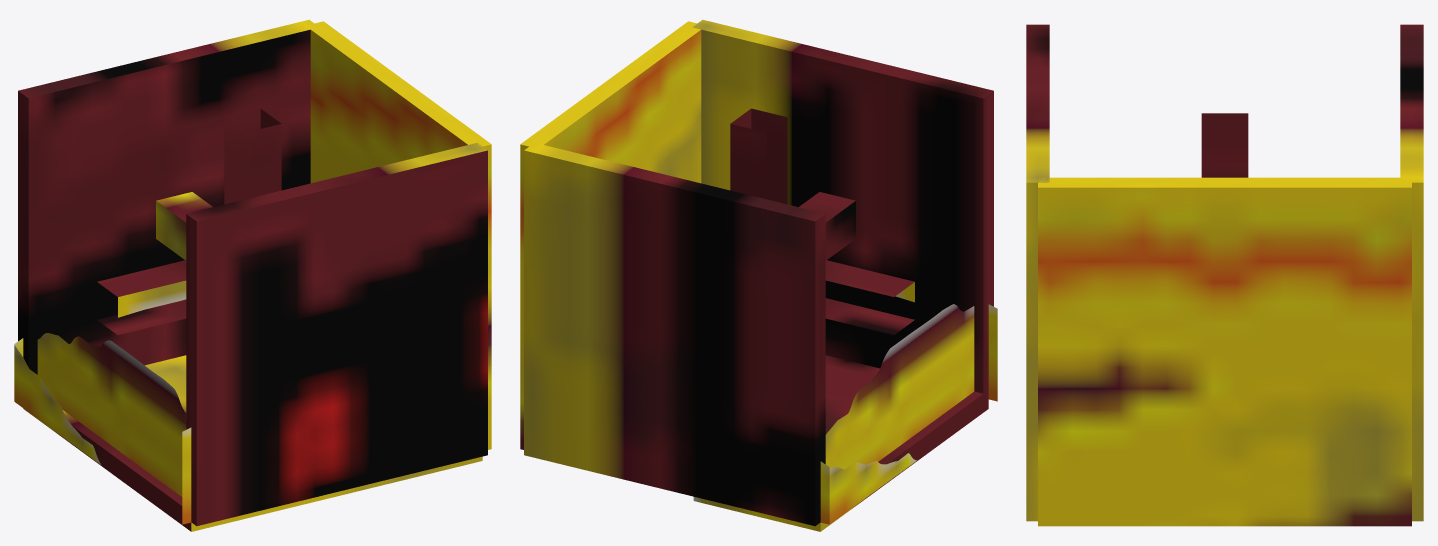
File: pandorasbox.obj
3 renders of one model, left to right at view 1: azimuth 30°, elevation 25°; view 2: azimuth 150°, elevation 25°; view 3: azimuth 270°, elevation 25°, orthographic. The views are drawn at different scales.
Visible parts, largest first — view 1: backside, frontside, rightside, leftside, buttonside, sticktb, sticklr, stickfb; view 2: frontside, backside, rightside, leftside, buttonside, sticktb, sticklr, stickfb; view 3: leftside, frontside, backside, sticktb.
Part boxes in pixels (box(x1,y1,x2,y2)): backside: box(186, 143, 487, 526); frontside: box(18, 19, 319, 374); rightside: box(14, 333, 191, 524); leftside: box(310, 21, 491, 449); buttonside: box(23, 355, 482, 531); sticktb: box(224, 108, 281, 204); sticklr: box(97, 260, 186, 334); stickfb: box(156, 192, 212, 259); frontside: box(524, 143, 825, 526); backside: box(692, 19, 993, 402); rightside: box(820, 304, 997, 524); leftside: box(520, 21, 701, 449); buttonside: box(693, 355, 988, 531); sticktb: box(730, 108, 787, 204); sticklr: box(825, 260, 914, 334); stickfb: box(799, 192, 855, 259); leftside: box(1038, 177, 1411, 526); frontside: box(1400, 24, 1423, 521); backside: box(1026, 24, 1049, 521); sticktb: box(1201, 113, 1248, 177).
Bounding box in the file's own units: 1.06 × 1.06 × 1.06.
